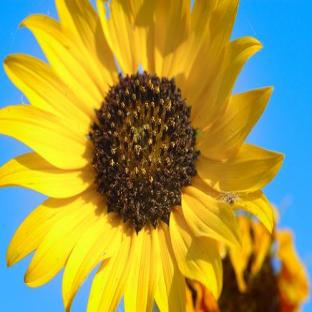sunflower: (0, 0, 285, 312)
